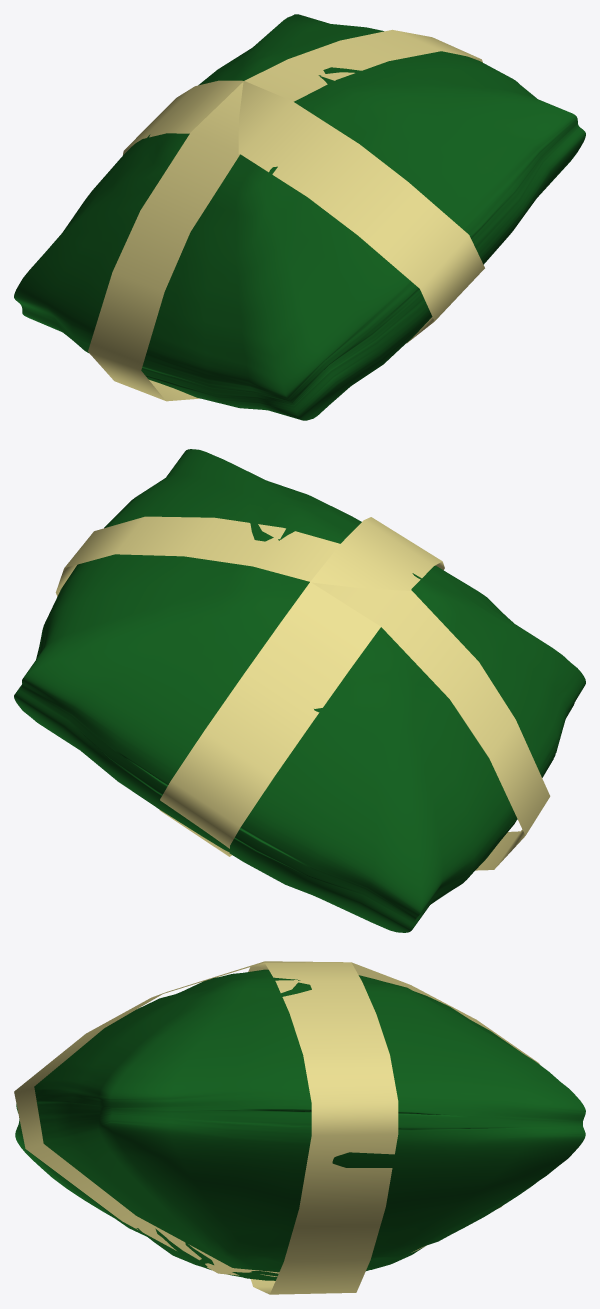
Rendered from giftbox5.glb.
3 renders of one model, top to bottom at view 1: azimuth 30°, elevation 25°; view 2: azimuth 150°, elevation 25°; view 3: azimuth 270°, elevation 25°, orthographic. The views are drawn at different scales.
Parts seen in each view (by area): view 1: Куб.014, Плоскость.009, Плоскость.010; view 2: Куб.014, Плоскость.009, Плоскость.010; view 3: Куб.014, Плоскость.010, Плоскость.009.
Boxes of the visible parts, x1,y1,x2,y2 form: Куб.014: (14,14,585,420); Плоскость.009: (123,80,484,343); Плоскость.010: (88,29,482,401); Куб.014: (14,449,585,932); Плоскость.009: (159,517,444,856); Плоскость.010: (55,516,550,870); Куб.014: (15,969,585,1280); Плоскость.010: (248,962,398,1294); Плоскость.009: (14,961,539,1276).
Size of the model in its own units: 0.6448 by 0.4292 by 0.6914.
